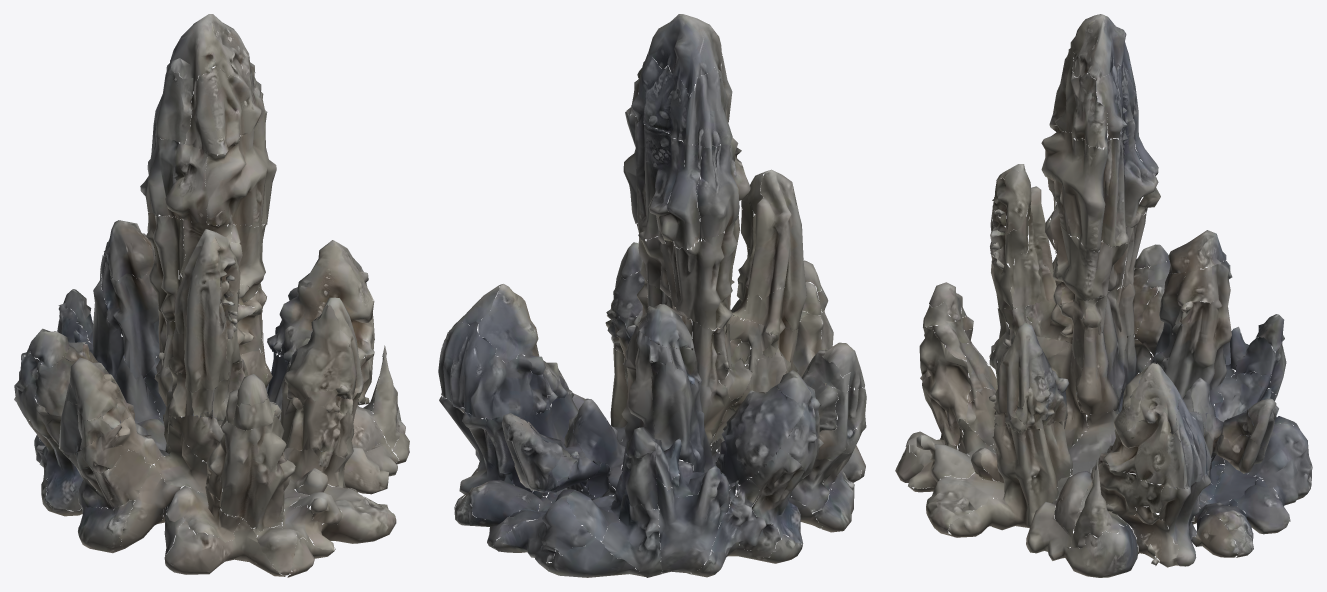
The model's file is env_stalagmite_cluster_LOD0.glb.
The picture shows the model from 3 angles, left to right: view 1: azimuth 30°, elevation 25°; view 2: azimuth 150°, elevation 25°; view 3: azimuth 270°, elevation 25°; orthographic projection. The views are drawn at different scales.
Parts seen in each view (by area): view 1: tripo_node_b958e5c8-be07-4208-9d87-b0ac715ece63; view 2: tripo_node_b958e5c8-be07-4208-9d87-b0ac715ece63; view 3: tripo_node_b958e5c8-be07-4208-9d87-b0ac715ece63.
Boxes of the visible parts, <box> form: tripo_node_b958e5c8-be07-4208-9d87-b0ac715ece63: <box>14,14,409,577</box>; tripo_node_b958e5c8-be07-4208-9d87-b0ac715ece63: <box>438,14,866,577</box>; tripo_node_b958e5c8-be07-4208-9d87-b0ac715ece63: <box>895,14,1312,577</box>.
Bounding box in the file's own units: 0.7752 × 1 × 0.7932.
Materials: 1 (1 with a texture image).
